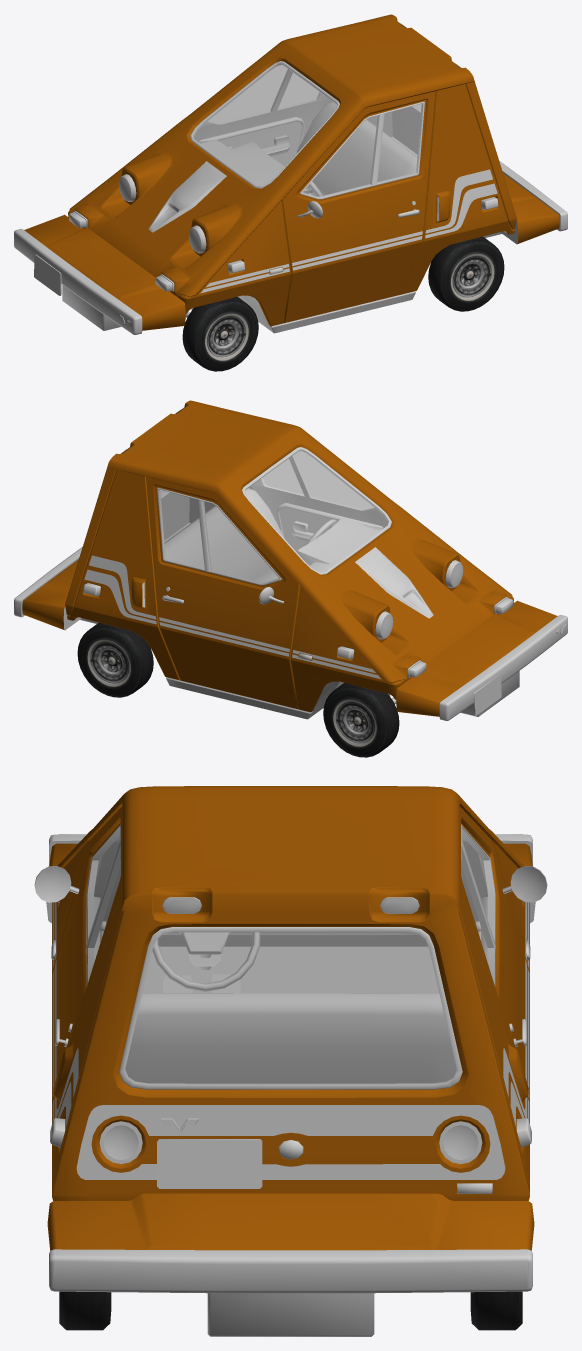
The model's file is Sebring-Vanguard-shitycar.fbx.
3 renders of one model, top to bottom at view 1: azimuth 30°, elevation 25°; view 2: azimuth 150°, elevation 25°; view 3: azimuth 270°, elevation 25°, orthographic. The views are drawn at different scales.
Visible parts, largest first — view 1: body, Door_Left, Bumper_Front, Windshield, Door_Left_Glass, Bodytrim, Seat, Doorcard_Right, Wheel_FL, Wheel_RL, Bumper_rear, Door_Right_Glass (+9 smaller); view 2: body, Door_Right, Bumper_Front, Windshield, Door_Right_Glass, Bodytrim, Seat, Wheel_FR, Wheel_RR, Doorcard_Left, Bumper_rear, Door_Left_Glass (+9 smaller); view 3: body, Bumper_rear, Rear_window, Seat, Bodytrim, Interior, Door_Left, Door_Right, Numberplate_rear, Taillights, Stoplights_Glass, Door_Left_Glass (+13 smaller).
Boxes of the visible parts, left/top/right/bottom form: body: left=68, top=14, right=516, bottom=326; Door_Left: left=282, top=91, right=435, bottom=323; Bumper_Front: left=14, top=214, right=185, bottom=334; Windshield: left=193, top=63, right=337, bottom=186; Door_Left_Glass: left=303, top=104, right=423, bottom=197; Bodytrim: left=74, top=61, right=497, bottom=293; Seat: left=297, top=102, right=417, bottom=196; Doorcard_Right: left=194, top=69, right=330, bottom=165; Wheel_FL: left=182, top=297, right=258, bottom=371; Wheel_RL: left=428, top=236, right=504, bottom=311; Bumper_rear: left=483, top=161, right=567, bottom=244; Door_Right_Glass: left=208, top=65, right=318, bottom=122; body: left=65, top=400, right=513, bottom=712; Door_Right: left=146, top=477, right=299, bottom=709; Bumper_Front: left=396, top=600, right=567, bottom=720; Windshield: left=244, top=449, right=388, bottom=572; Door_Right_Glass: left=158, top=490, right=278, bottom=583; Bodytrim: left=84, top=447, right=507, bottom=679; Seat: left=164, top=488, right=284, bottom=582; Wheel_FR: left=323, top=683, right=399, bottom=757; Wheel_RR: left=77, top=622, right=153, bottom=697; Doorcard_Left: left=251, top=455, right=387, bottom=551; Bumper_rear: left=14, top=547, right=98, bottom=630; Door_Left_Glass: left=263, top=451, right=373, bottom=508; body: left=52, top=786, right=529, bottom=1200; Bumper_rear: left=47, top=1193, right=534, bottom=1336; Rear_window: left=125, top=932, right=456, bottom=1084; Seat: left=125, top=993, right=456, bottom=1083; Bodytrim: left=52, top=902, right=529, bottom=1179; Interior: left=94, top=835, right=487, bottom=1084; Door_Left: left=52, top=806, right=122, bottom=1103; Door_Right: left=459, top=806, right=529, bottom=1103; Numberplate_rear: left=157, top=1139, right=262, bottom=1188; Taillights: left=99, top=897, right=482, bottom=1163; Stoplights_Glass: left=103, top=898, right=478, bottom=1159; Door_Left_Glass: left=87, top=828, right=120, bottom=981.
Size of the model in its own units: 121 by 61.08 by 58.92.
